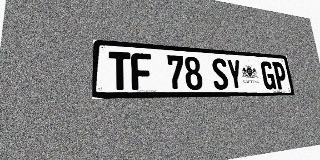7: (166, 55, 186, 90)
8: (184, 56, 203, 90)
F: (131, 53, 152, 90)
G: (260, 61, 276, 89)
P: (272, 62, 288, 89)
S: (211, 58, 229, 90)
T: (109, 51, 131, 90)
Y: (226, 59, 244, 90)
